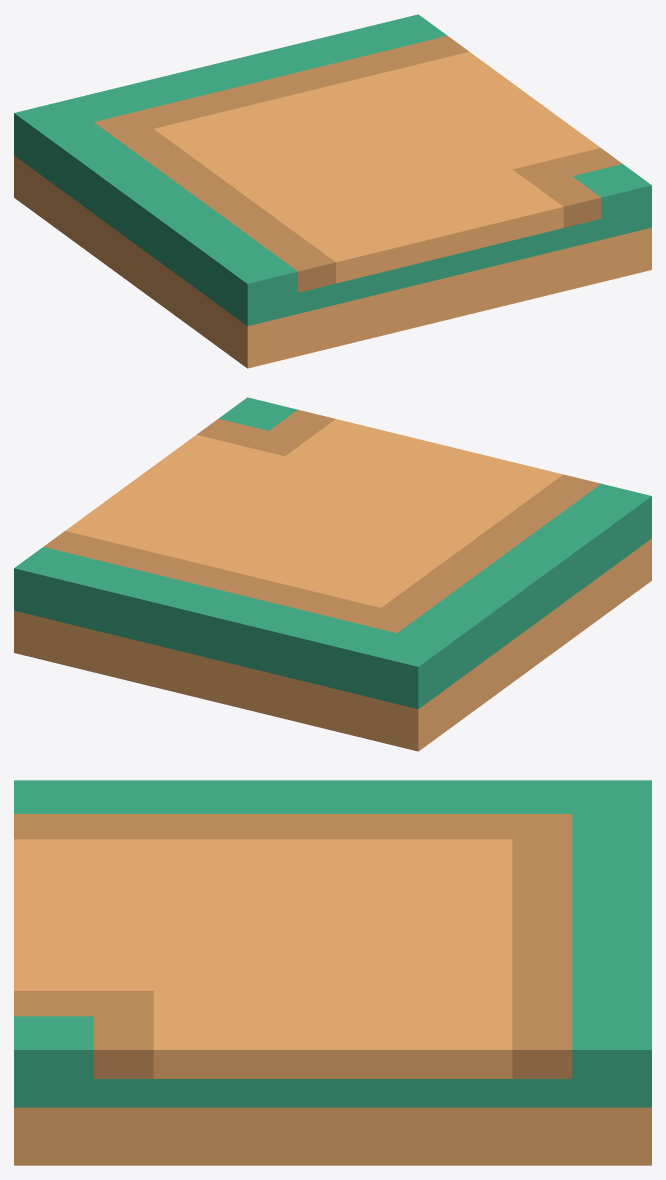
File: tile_cornerSquare(+).fbx
The picture shows the model from 3 angles, top to bottom: view 1: azimuth 30°, elevation 25°; view 2: azimuth 150°, elevation 25°; view 3: azimuth 270°, elevation 25°; orthographic projection. The views are drawn at different scales.
Visible parts, largest first — view 1: Mesh_2; view 2: Mesh_2; view 3: Mesh_2.
Part boxes in pixels (box(x1,y1,x2,y2)): Mesh_2: box(14, 14, 651, 368); Mesh_2: box(14, 397, 651, 751); Mesh_2: box(14, 780, 651, 1165).
Size of the model in its own units: 100 by 20 by 100.
